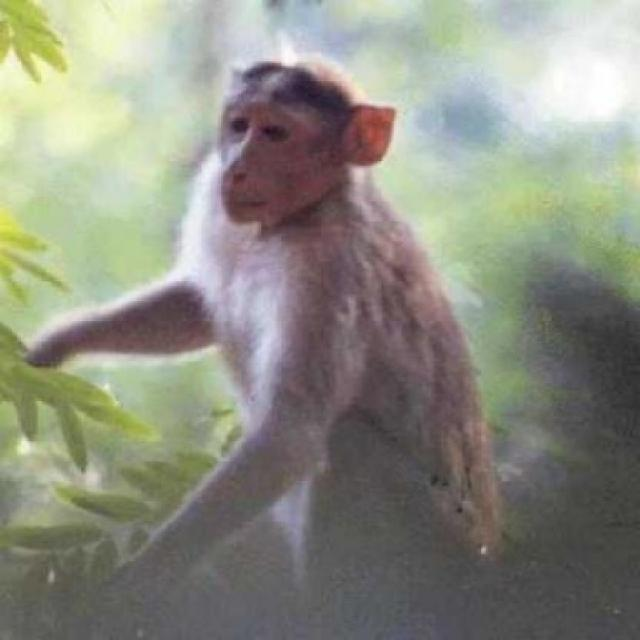Monkey: (118, 51, 510, 632)
